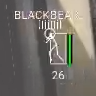hacks_1: (14, 10, 73, 79)
